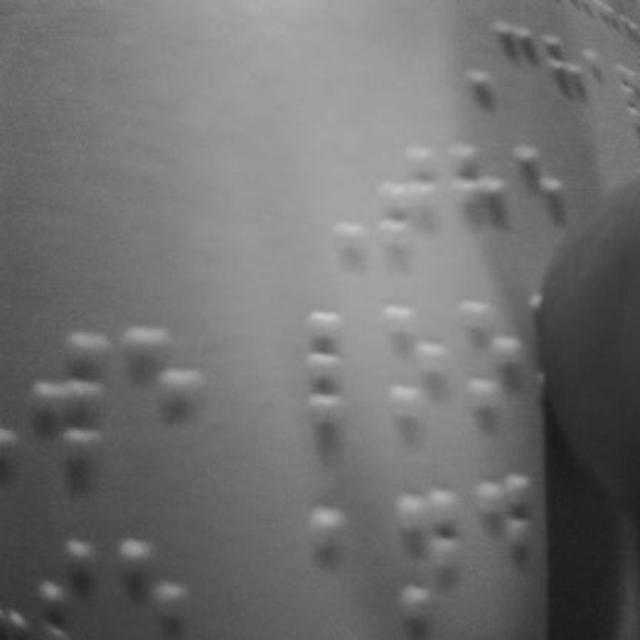braiile: (123, 316, 209, 469), (27, 331, 114, 472), (304, 496, 386, 640), (388, 487, 462, 631), (457, 292, 533, 428), (379, 296, 451, 434), (469, 467, 541, 605), (378, 133, 446, 263), (308, 302, 376, 428), (451, 134, 514, 260)
